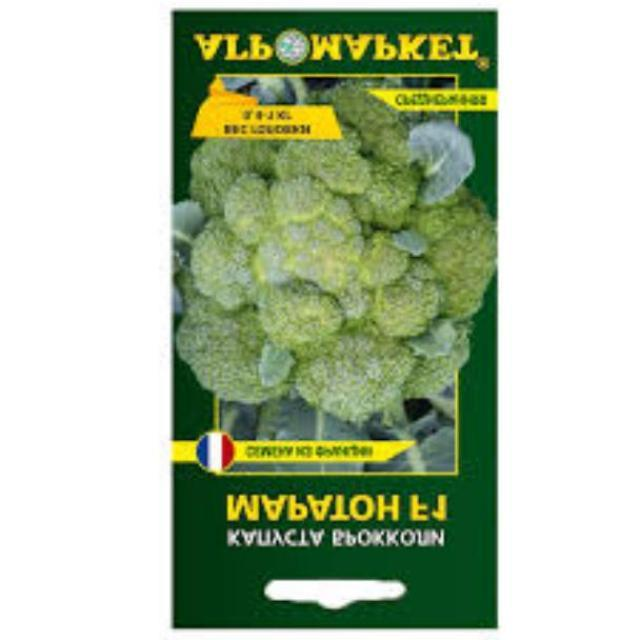Broccoli: (198, 116, 471, 419)
